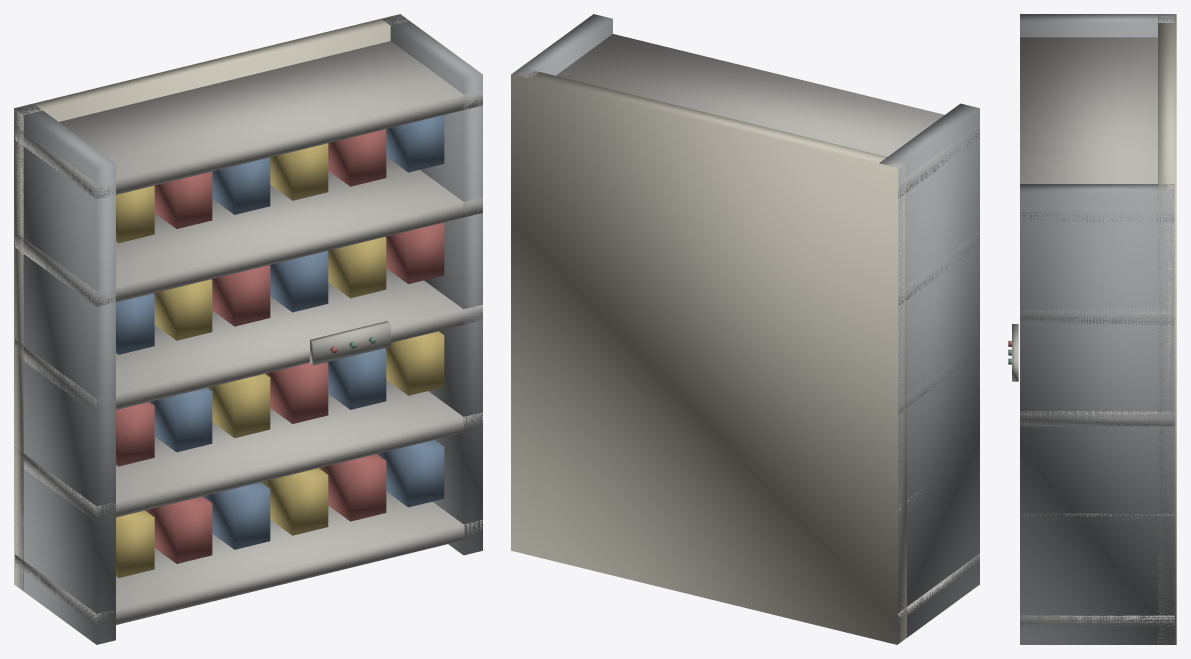
Rendered from retail_gondola__deep.glb.
The picture shows the model from 3 angles, left to right: view 1: azimuth 30°, elevation 25°; view 2: azimuth 150°, elevation 25°; view 3: azimuth 270°, elevation 25°; orthographic projection. The views are drawn at different scales.
Parts seen in each view (by area): view 1: world; view 2: world; view 3: world.
Part boxes in pixels (x1,y1,x2,y2): world: (14,14,482,644); world: (511,14,979,644); world: (1008,14,1176,644).
Bounding box in the file's own units: 1.4 × 1.65 × 0.5563.
